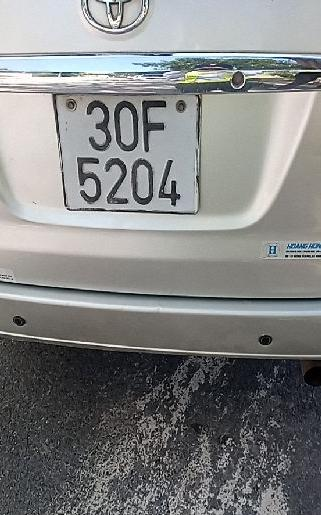Plate-iWeP: (48, 86, 211, 217)
